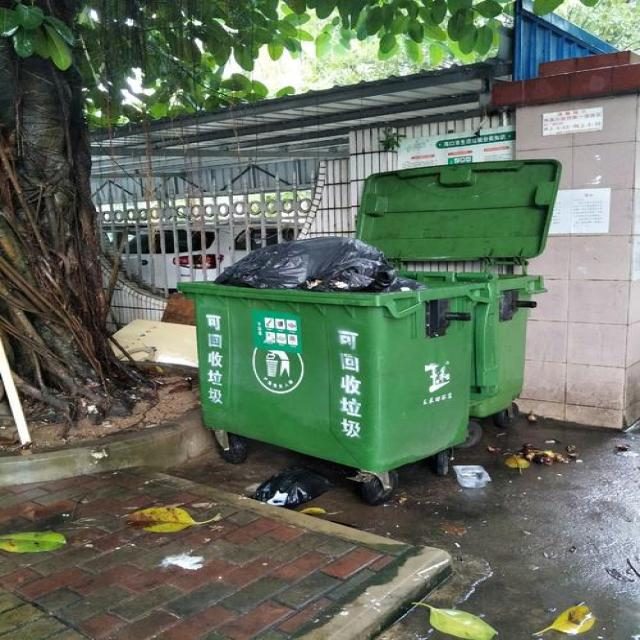garbage: (245, 464, 326, 506), (450, 462, 490, 488)
garbage_bin: (471, 272, 545, 418)
overflow: (172, 235, 488, 471)
